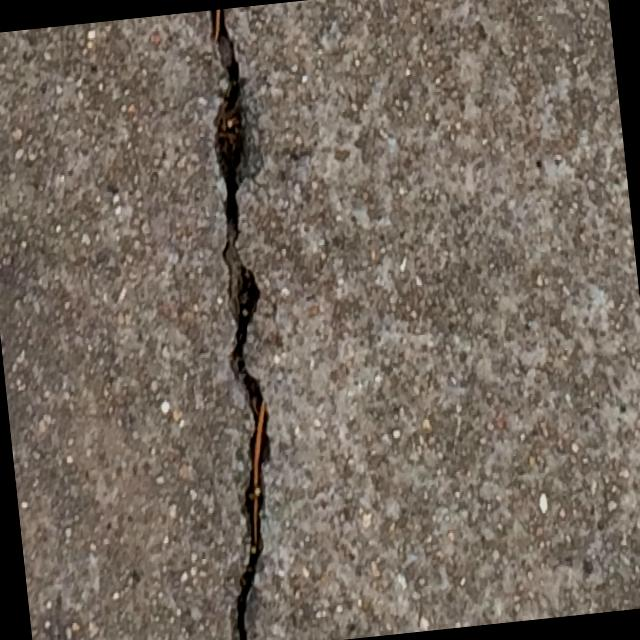spall: (166, 9, 320, 640)
